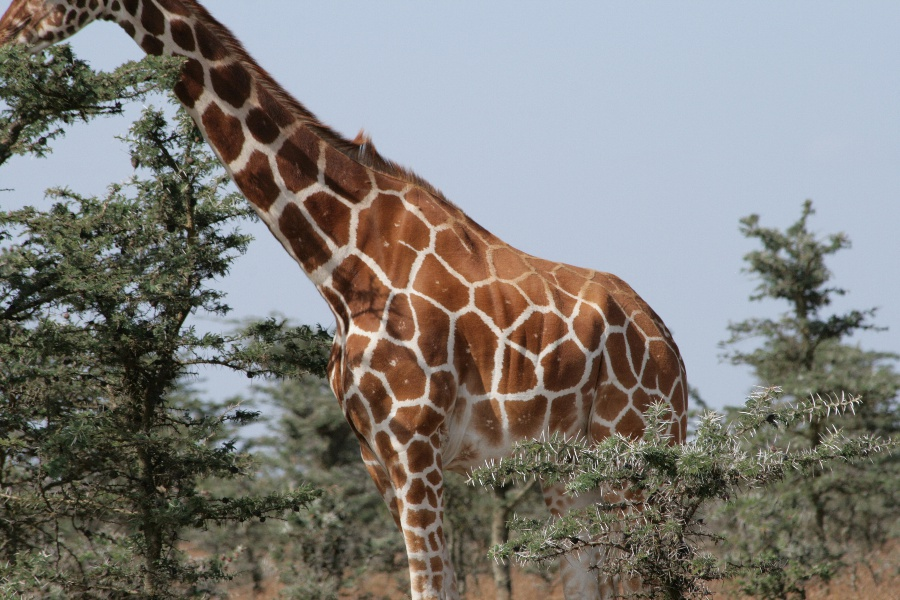giraffe: (0, 0, 688, 599)
